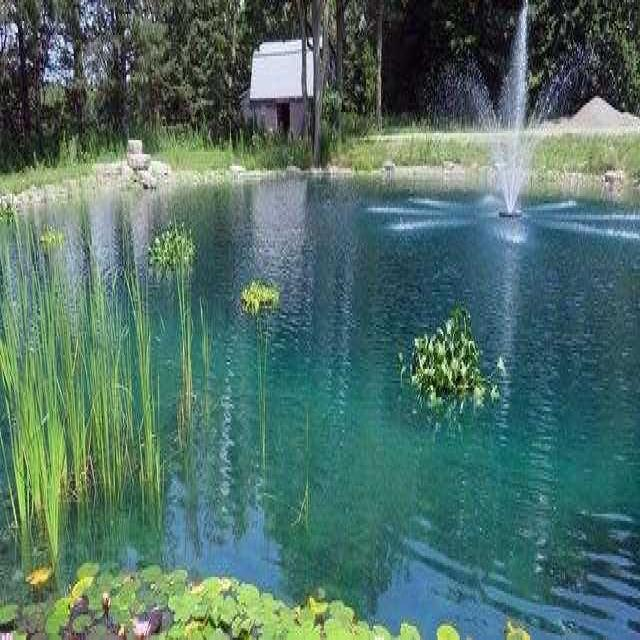Ponds: (1, 143, 640, 640)
